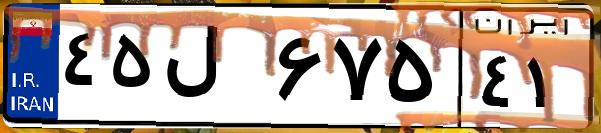1: (525, 38, 570, 115)
4: (57, 26, 110, 100), (475, 38, 525, 113)
5: (385, 28, 445, 110), (110, 28, 158, 98)
6: (270, 28, 330, 110)
7: (330, 28, 385, 110)
ل: (158, 20, 270, 120)
